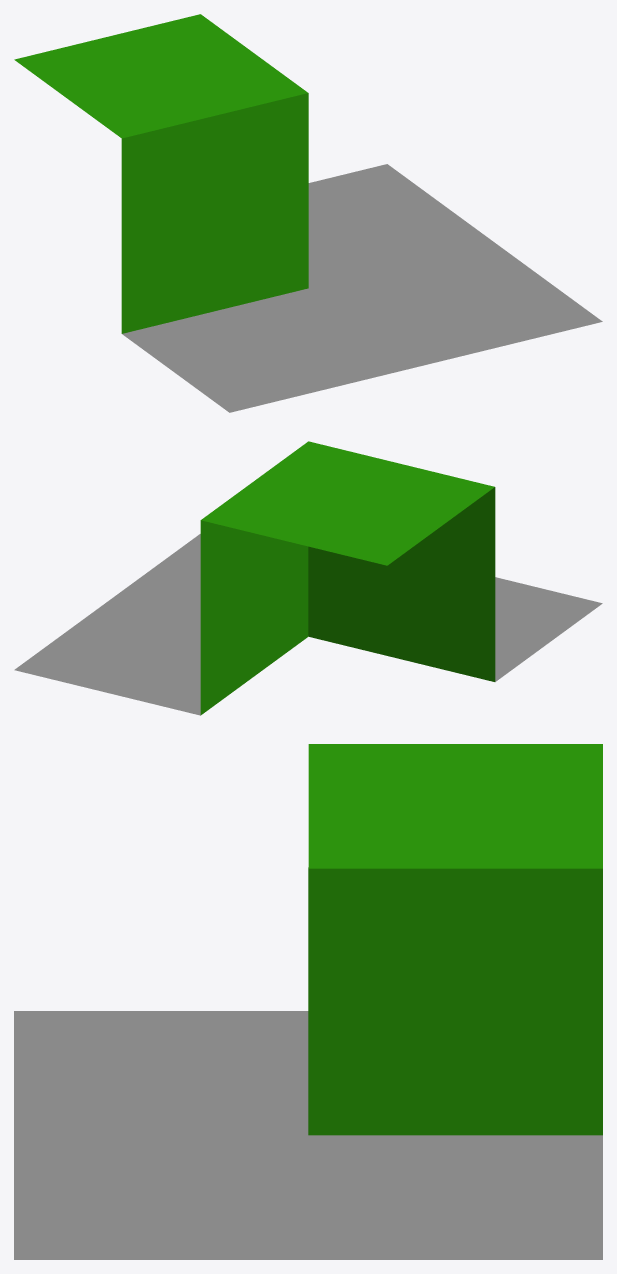
3 views of the same model, one above another, from view 1: azimuth 30°, elevation 25°; view 2: azimuth 150°, elevation 25°; view 3: azimuth 270°, elevation 25° (orthographic). The views are drawn at different scales.
Visible parts, largest first — view 1: T_2_0_0; view 2: T_2_0_0; view 3: T_2_0_0.
Boxes of the visible parts, x1,y1,x2,y2 form: T_2_0_0: (14,14,602,412); T_2_0_0: (14,441,602,715); T_2_0_0: (14,744,602,1259).
Bounding box in the file's own units: 99.79 × 49.91 × 99.81.
